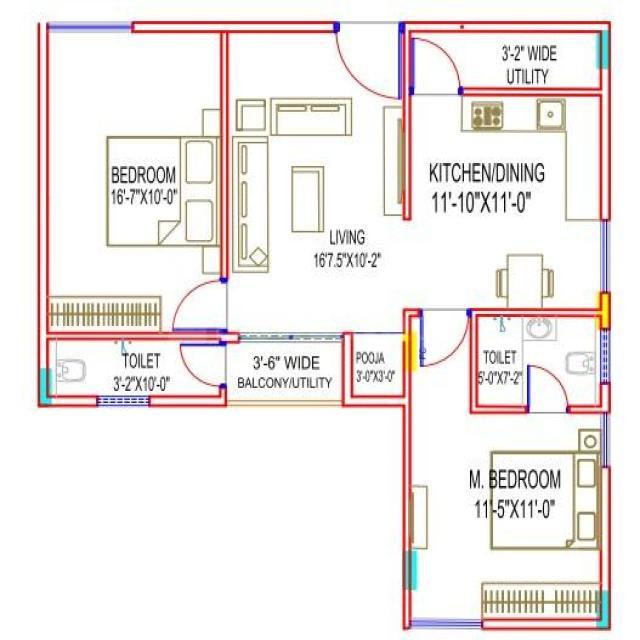Balcony-Sitout: (224, 336, 345, 403)
Bedroom: (39, 24, 228, 337)
Bedroom with Toilet: (402, 308, 610, 633)
Enterance-Foyer: (330, 16, 403, 101)
Kitchen: (406, 93, 606, 312)
Living: (223, 25, 407, 335)
Pooja: (347, 336, 407, 401)
Toilet: (473, 310, 606, 410), (42, 337, 224, 401)
Utility: (408, 25, 604, 90)
